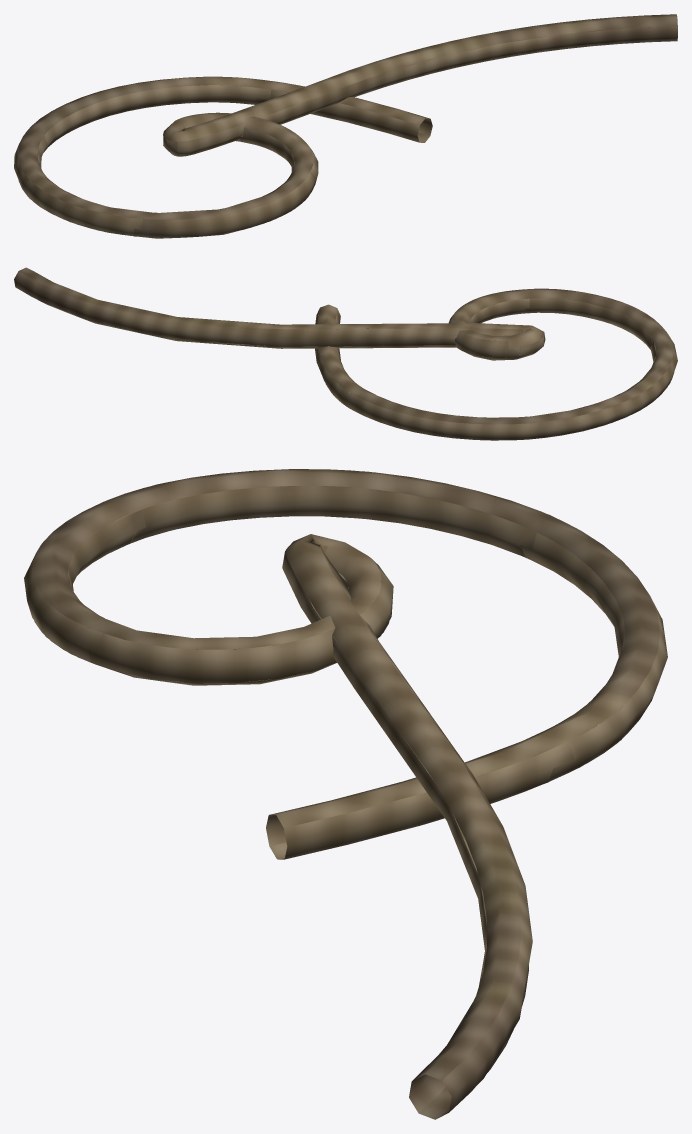
Rendered from P25_Rope.glb.
The picture shows the model from 3 angles, top to bottom: view 1: azimuth 30°, elevation 25°; view 2: azimuth 150°, elevation 25°; view 3: azimuth 270°, elevation 25°; orthographic projection. The views are drawn at different scales.
Visible parts, largest first — view 1: P25_Rope; view 2: P25_Rope; view 3: P25_Rope.
Part boxes in pixels (x1,y1,x2,y2): P25_Rope: [14, 14, 677, 238]; P25_Rope: [14, 267, 677, 440]; P25_Rope: [24, 469, 667, 1119].
Size of the model in its own units: 0.4001 by 0.0356 by 0.1829.
1 material, 1 textured.
